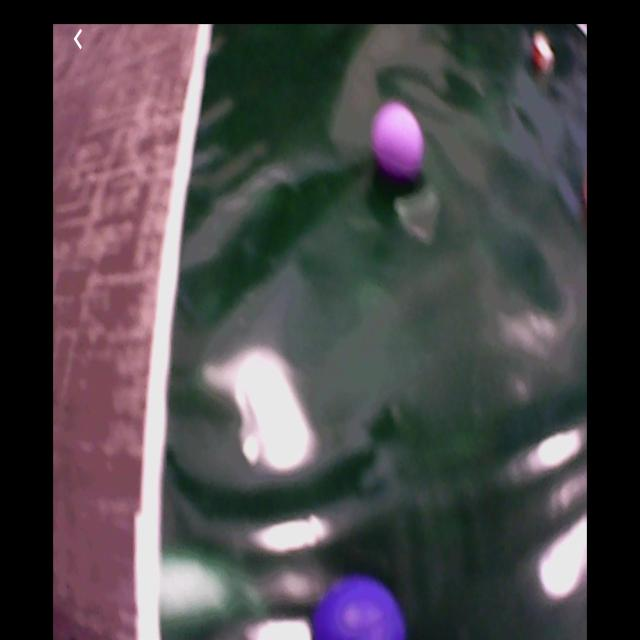ball: (315, 579, 407, 640), (373, 103, 424, 178)
